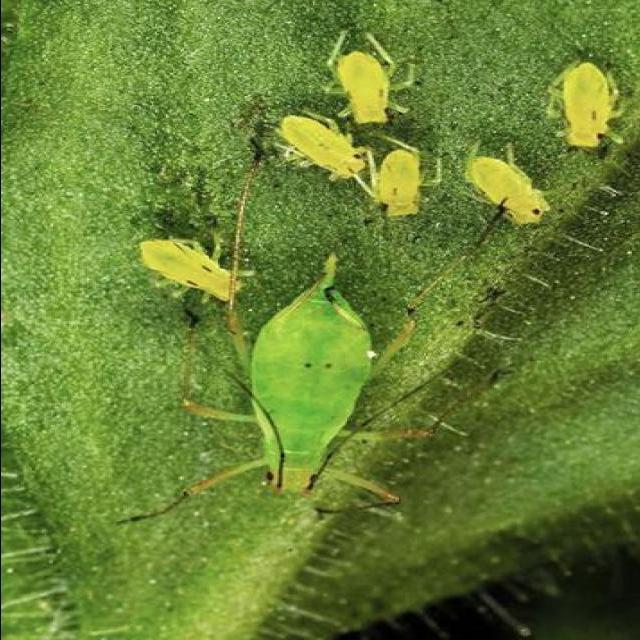aphid: (138, 254, 452, 508), (315, 23, 434, 132), (438, 144, 550, 254), (543, 50, 631, 170), (140, 228, 258, 308), (271, 116, 384, 194), (360, 142, 440, 243)
